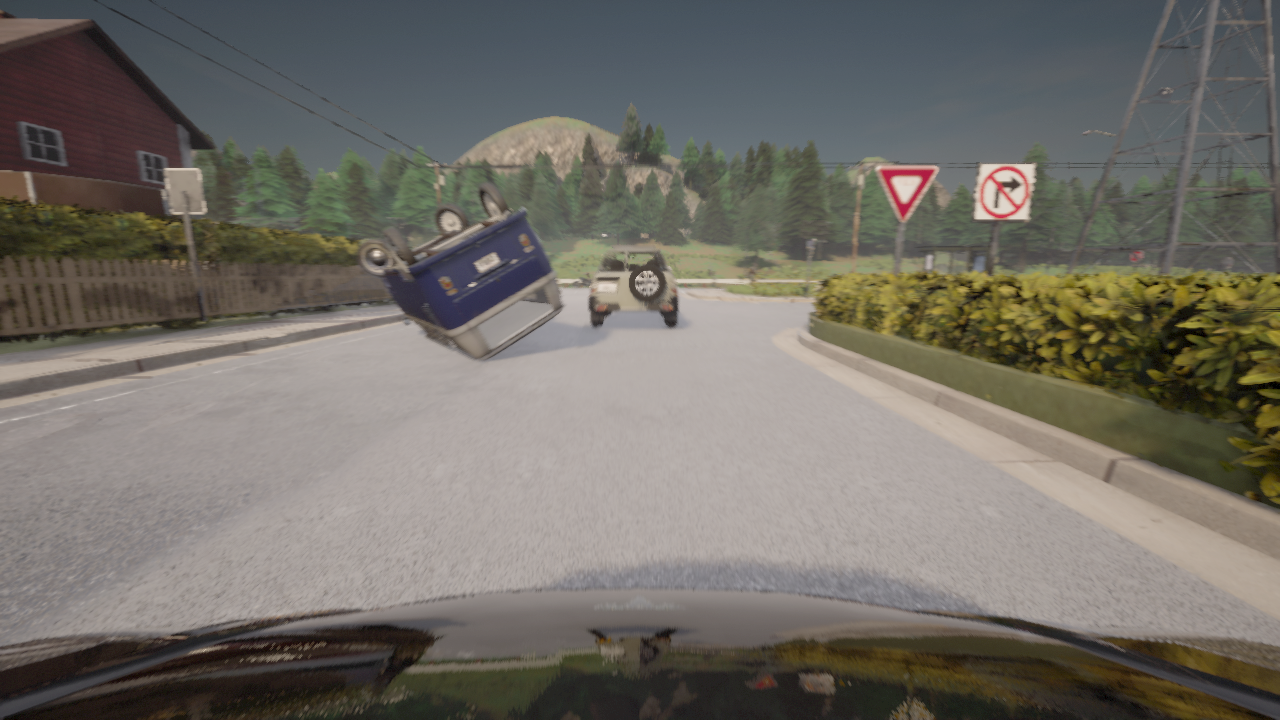cyclist: (0, 588, 1279, 719), (357, 182, 565, 360), (589, 245, 677, 326), (572, 275, 593, 288)
pedestrian: (748, 263, 758, 284)
